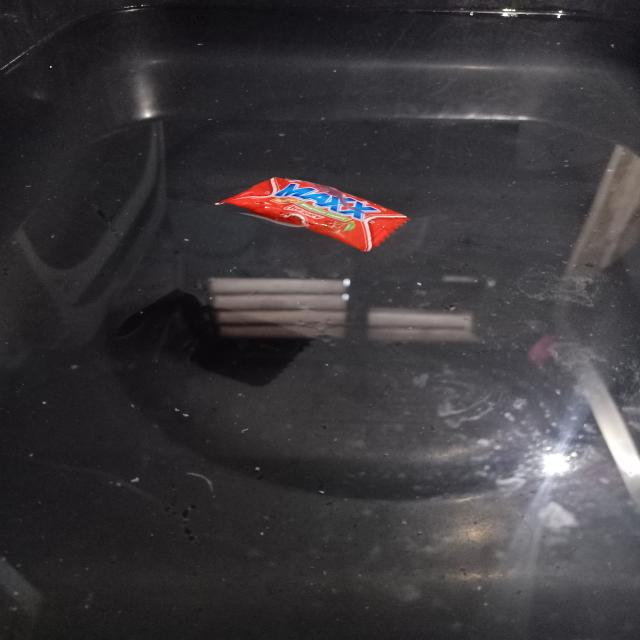Plastic Wrapper: (215, 177, 409, 252)
